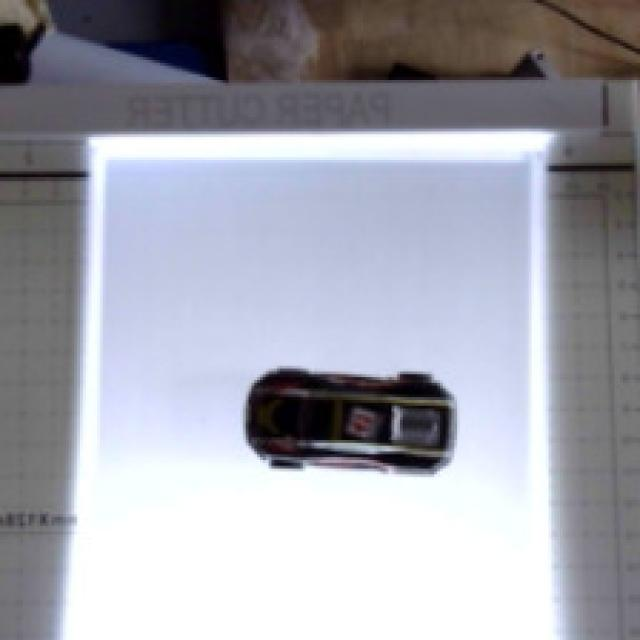Red Car: (246, 323, 470, 528)
